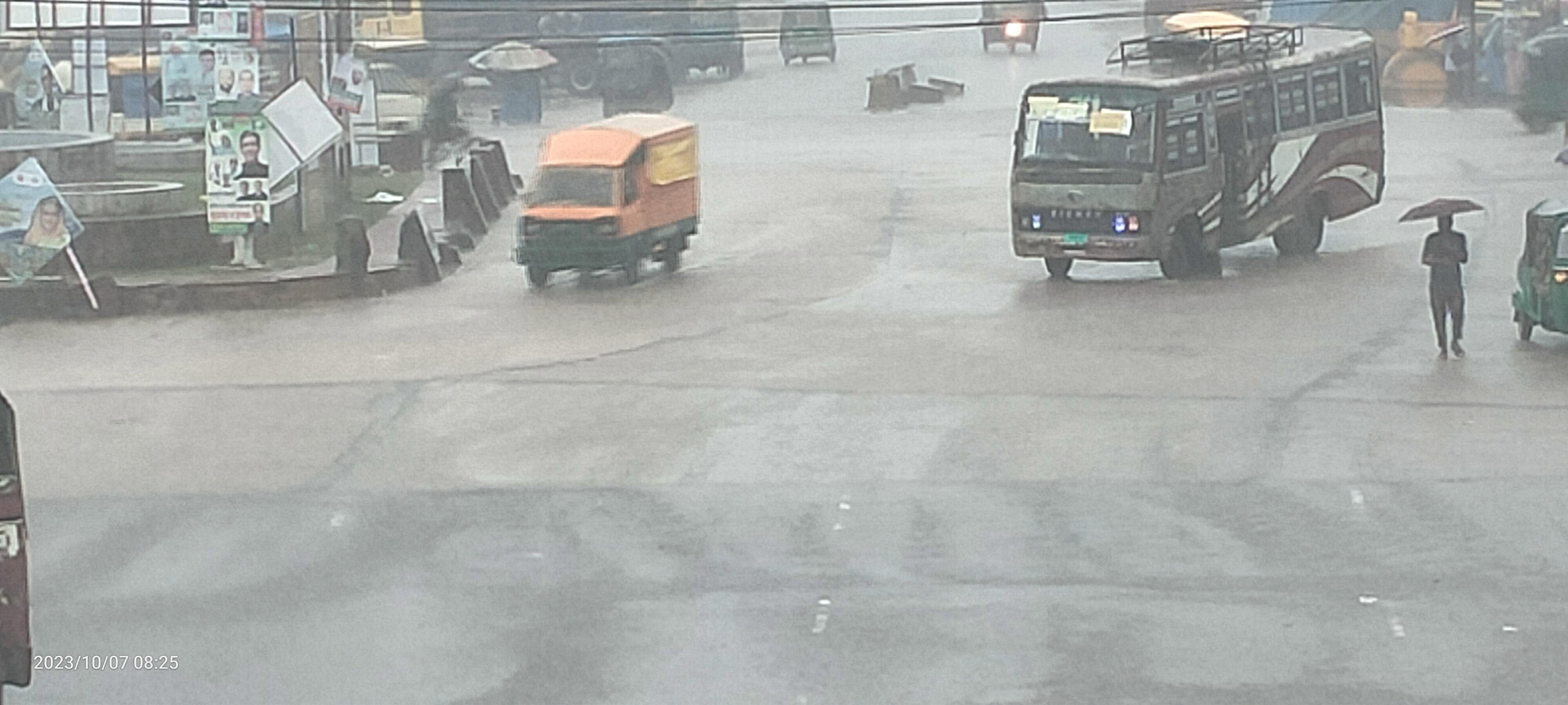Bus: (975, 16, 1430, 307)
Car: (499, 99, 723, 301)
